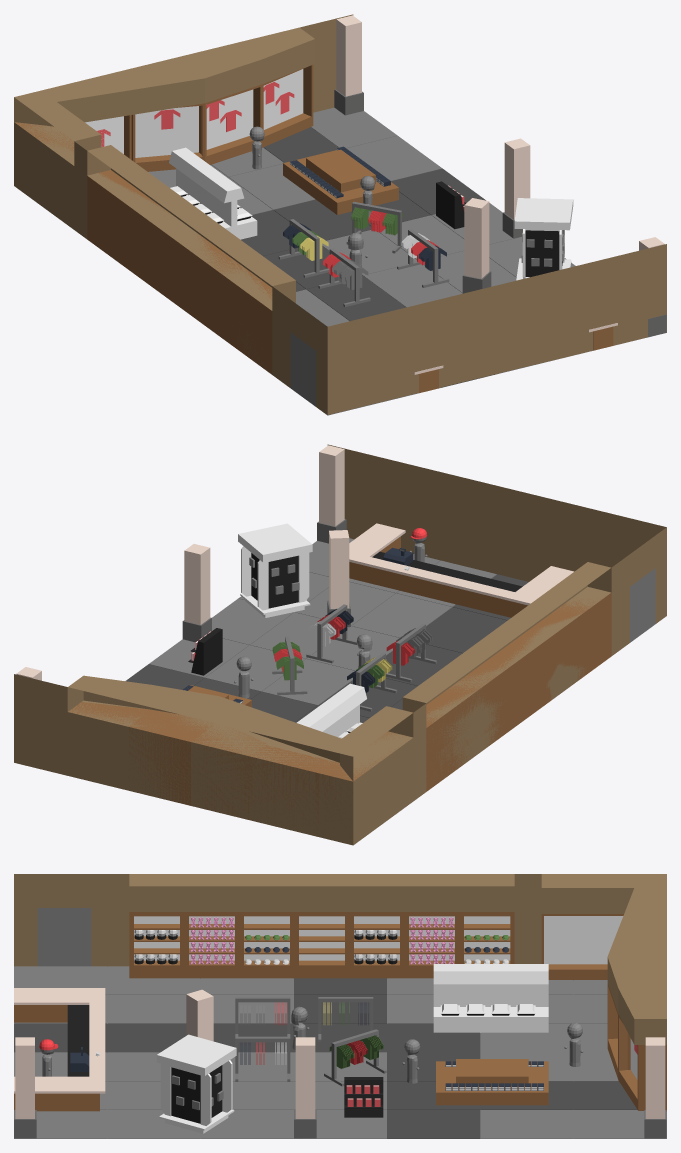
File: ShoppingModel.fbx
The picture shows the model from 3 angles, top to bottom: view 1: azimuth 30°, elevation 25°; view 2: azimuth 150°, elevation 25°; view 3: azimuth 270°, elevation 25°; orthographic projection. The views are drawn at different scales.
Parts seen in each view (by area): view 1: Cube.2530, Cube.2531, Cube.2525, Cube.2529, Cube.3059, Cube.2532, Cube.3093, Cube.2542, Cube.2543, Cube.3068, Cube.3060, Cube.3064 (+17 smaller); view 2: Cube.2529, Cube.2531, Cube.2530, Cube.2525, Cube.3059, Cube.2532, Cube.3093, Cube.2537, Cube.2541, Cube.2533, Cube.2528, Cube.2538 (+14 smaller); view 3: Cube.2525, Cube.2531, Cube.3059, Cube.2532, Cube.2529, Cube.2543, Cube.3093, Cube.2542, Cube.2533, Cube.3067, Cube.2550, Cube.2528 (+32 smaller).
Boxes of the visible parts, left/top/right/bottom form: Cube.2530: left=327, top=244, right=666, bottom=414; Cube.2531: left=14, top=97, right=327, bottom=415; Cube.2525: left=148, top=107, right=647, bottom=415; Cube.2529: left=14, top=14, right=353, bottom=126; Cube.3059: left=241, top=127, right=495, bottom=387; Cube.2532: left=166, top=231, right=272, bottom=374; Cube.3093: left=87, top=170, right=174, bottom=297; Cube.2542: left=283, top=149, right=398, bottom=214; Cube.2543: left=169, top=147, right=257, bottom=239; Cube.3068: left=135, top=106, right=198, bottom=157; Cube.3060: left=464, top=198, right=489, bottom=278; Cube.3064: left=336, top=15, right=361, bottom=96; Cube.2529: left=14, top=674, right=353, bottom=845; Cube.2531: left=340, top=527, right=666, bottom=844; Cube.2530: left=327, top=444, right=666, bottom=581; Cube.2525: left=149, top=538, right=496, bottom=705; Cube.3059: left=125, top=574, right=528, bottom=722; Cube.2532: left=482, top=593, right=611, bottom=733; Cube.3093: left=426, top=664, right=505, bottom=791; Cube.2537: left=128, top=710, right=214, bottom=805; Cube.2541: left=251, top=731, right=408, bottom=842; Cube.2533: left=349, top=523, right=573, bottom=605; Cube.2528: left=349, top=536, right=527, bottom=617; Cube.2538: left=191, top=726, right=267, bottom=819; Cube.2525: left=14, top=966, right=666, bottom=1138; Cube.2531: left=14, top=874, right=666, bottom=966; Cube.3059: left=14, top=978, right=637, bottom=1138; Cube.2532: left=129, top=912, right=349, bottom=978; Cube.2529: left=607, top=874, right=666, bottom=1044; Cube.2543: left=433, top=964, right=548, bottom=1032; Cube.3093: left=349, top=912, right=514, bottom=978; Cube.2542: left=436, top=1059, right=548, bottom=1105; Cube.2533: left=14, top=988, right=105, bottom=1093; Cube.3067: left=544, top=916, right=623, bottom=964; Cube.2550: left=37, top=908, right=91, bottom=966; Cube.2528: left=14, top=1005, right=99, bottom=1111.
Bounding box in the file's own units: 2373 × 1482 × 371.
